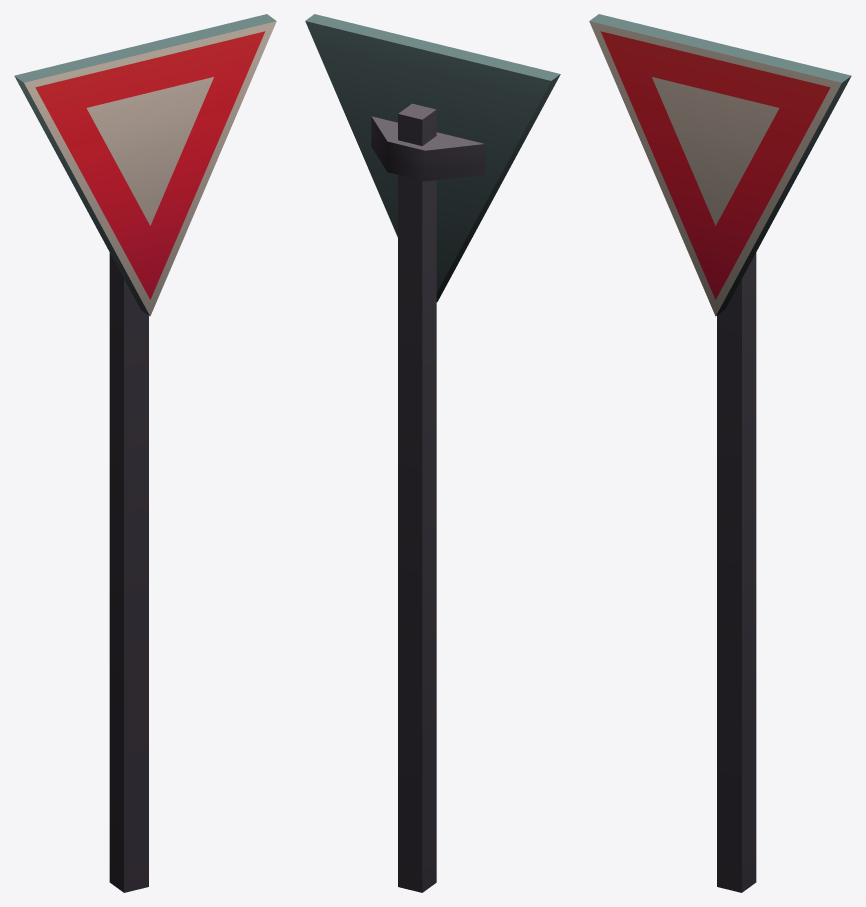
File: Streetsign_2B.fbx
3 renders of one model, left to right at view 1: azimuth 30°, elevation 25°; view 2: azimuth 150°, elevation 25°; view 3: azimuth 330°, elevation 25°, orthographic. The views are drawn at different scales.
Visible parts, largest first — view 1: Streetsign_2B; view 2: Streetsign_2B; view 3: Streetsign_2B.
Part boxes in pixels (x1,y1,x2,y2): Streetsign_2B: [14, 14, 276, 892]; Streetsign_2B: [305, 14, 560, 892]; Streetsign_2B: [589, 14, 851, 892].
Size of the model in its own units: 90 by 288 by 19.83.
